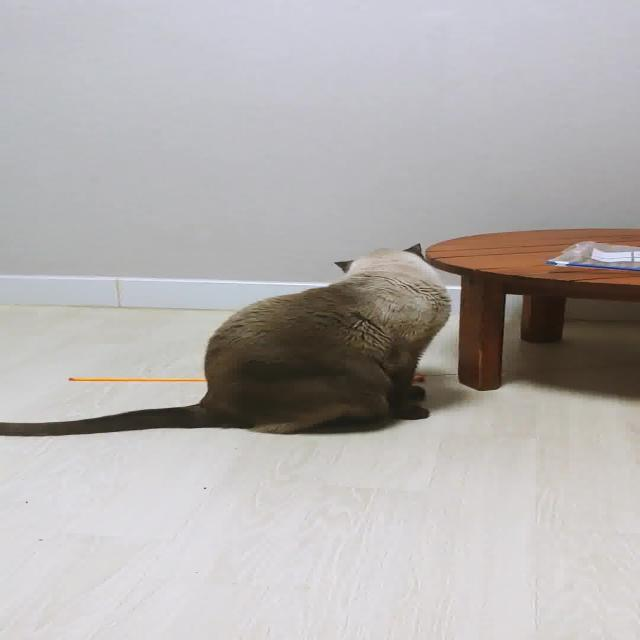cat: (0, 238, 457, 440)
